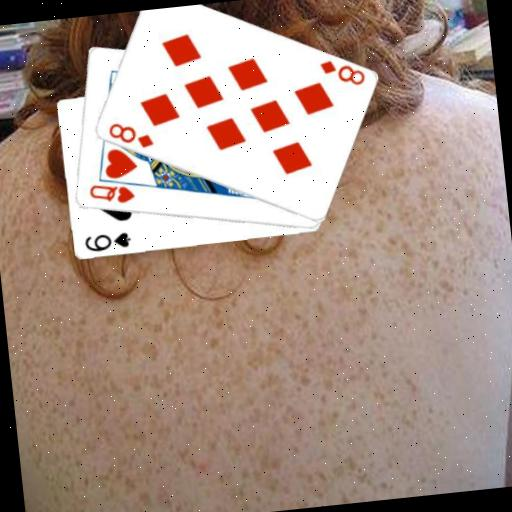6S: (81, 229, 133, 255)
8D: (104, 117, 156, 154), (315, 54, 367, 91)
QH: (85, 178, 137, 209)
